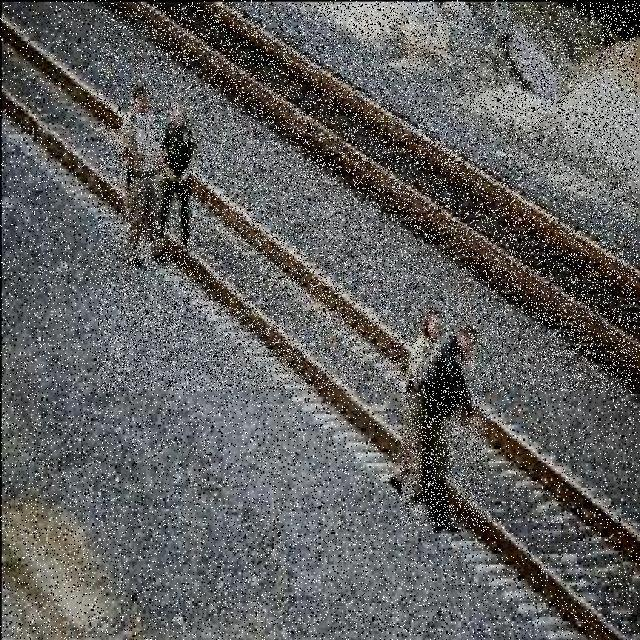danger: (400, 323, 486, 526), (114, 102, 194, 275)
rail: (1, 9, 635, 635), (99, 3, 637, 391)
